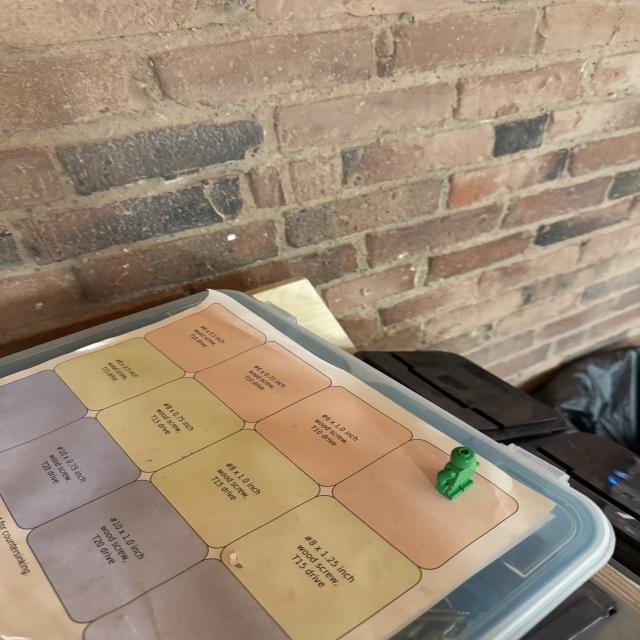Green Mini Figure: (436, 446, 479, 500)
